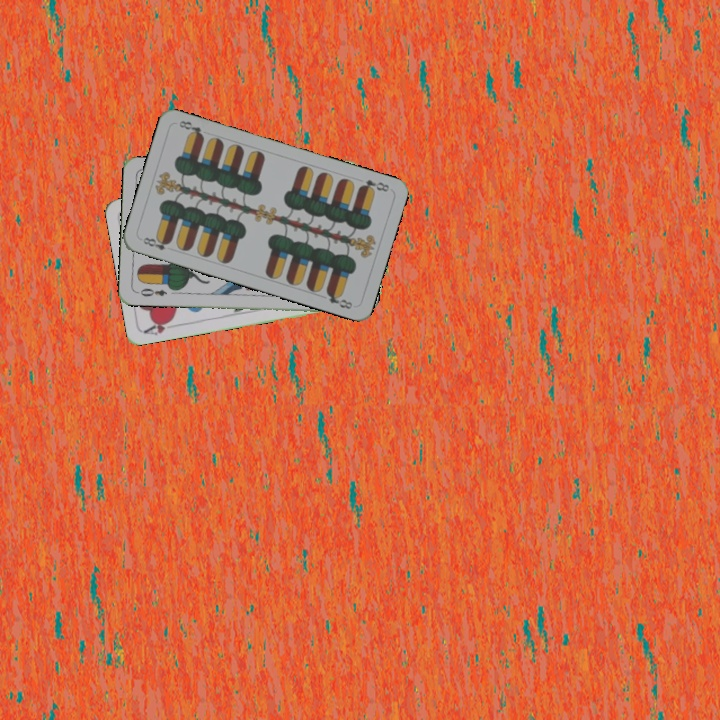E8: (355, 175, 392, 195), (137, 233, 173, 253)
EO: (133, 284, 169, 299)
HA: (141, 315, 181, 338)
